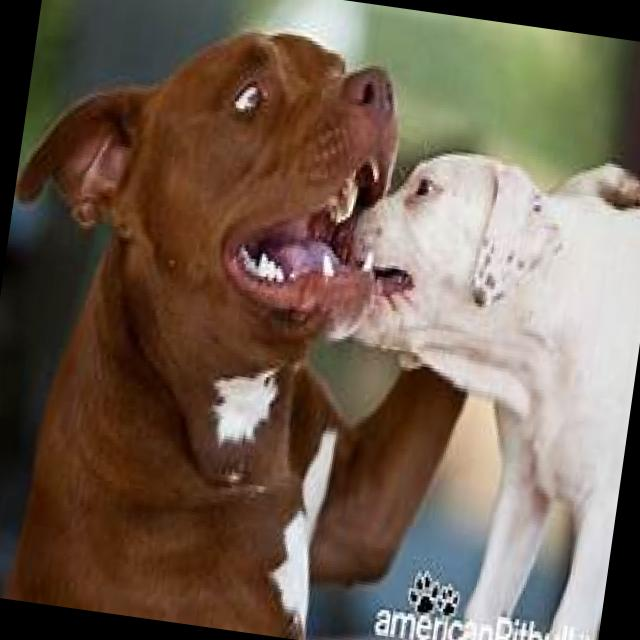animal: (0, 0, 640, 640), (294, 136, 640, 640)
